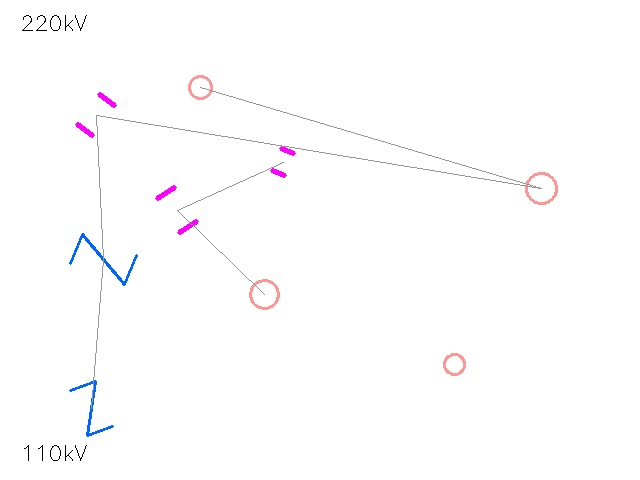capacitor: (143, 176, 211, 244), (65, 84, 127, 146), (263, 142, 303, 182)
circuit_breaker: (71, 227, 135, 291), (64, 381, 118, 435)
current_transformer: (236, 266, 292, 322)
disconnect_switch: (434, 344, 474, 384)
surge_arrester: (510, 157, 572, 219), (177, 64, 223, 110)
